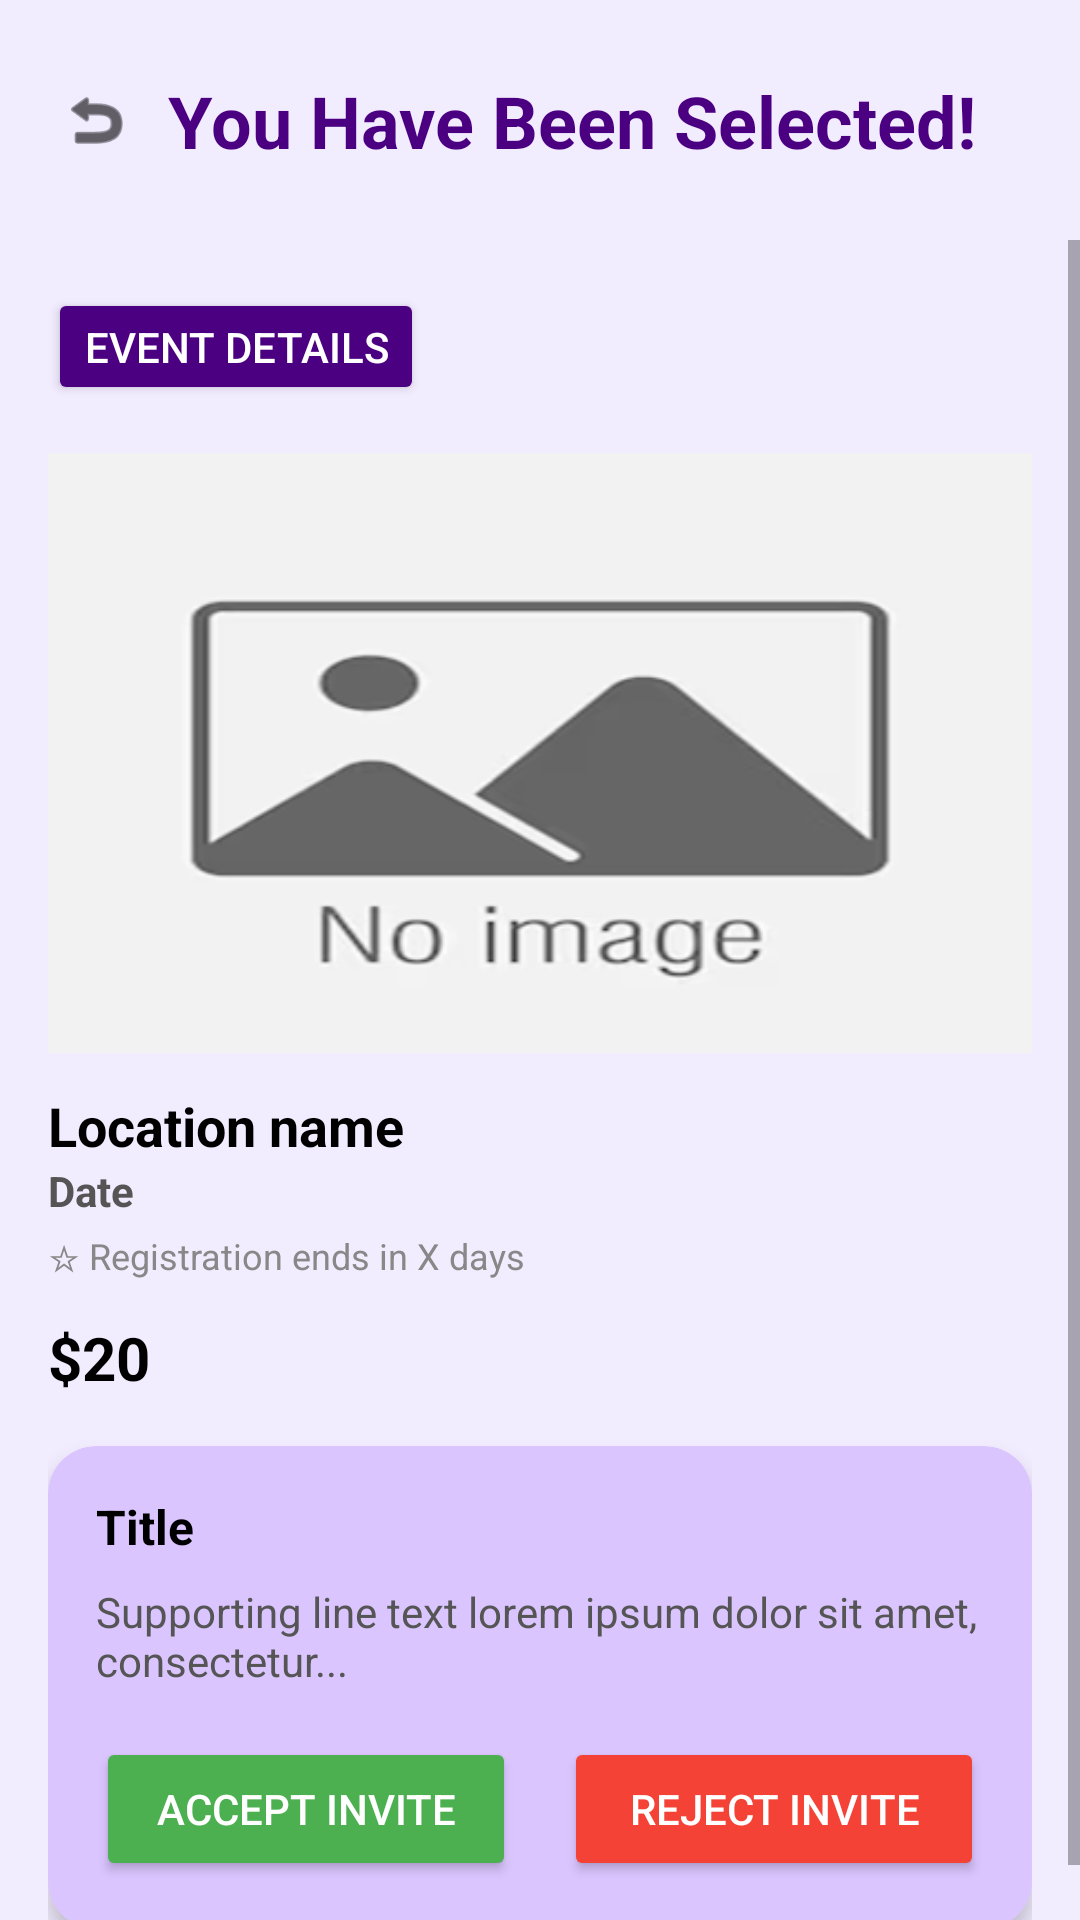

Icon click points for this 1080x1920 phone screenshot, format [x,y]:
revert: [97,120]
